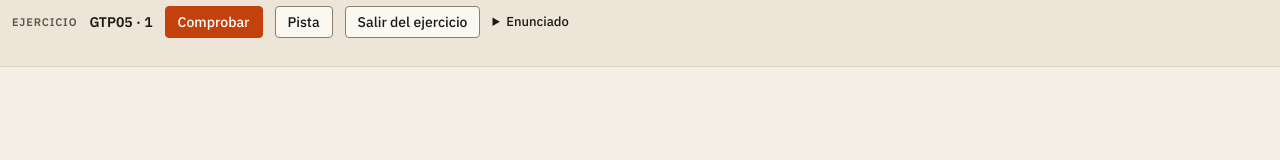
Test case: ExerciseBar › Comprobar con el starter muestra el caso que falla; con la solución, ¡Correcto!
Expected: the element named "Ejercicio activo" is shown, [0,0,1279,67]
Click the button "Comprobar": (214, 22) [165,6,262,38]
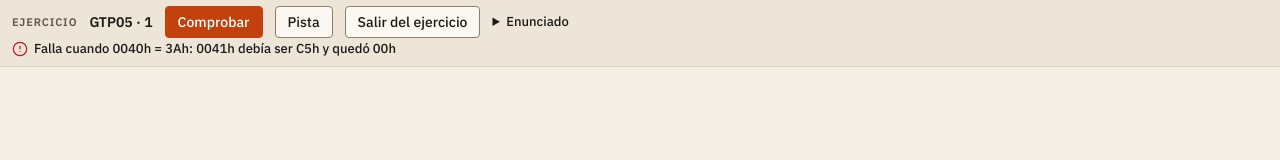
Result: the message shows "Falla cuando 0040h = 3Ah" at [34,40,396,57]
Click the button "Comprobar": (214, 22) [165,6,262,38]
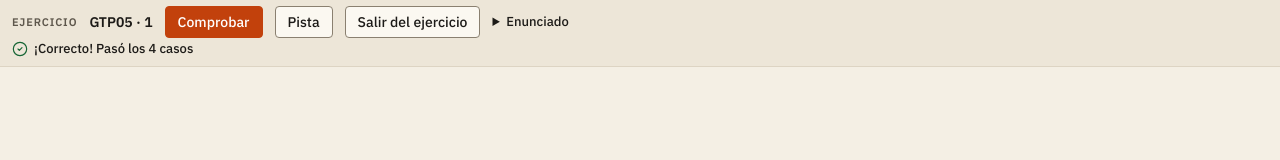
Result: the message reads "¡Correcto! Pasó los 4 casos" at [34,40,193,57]
